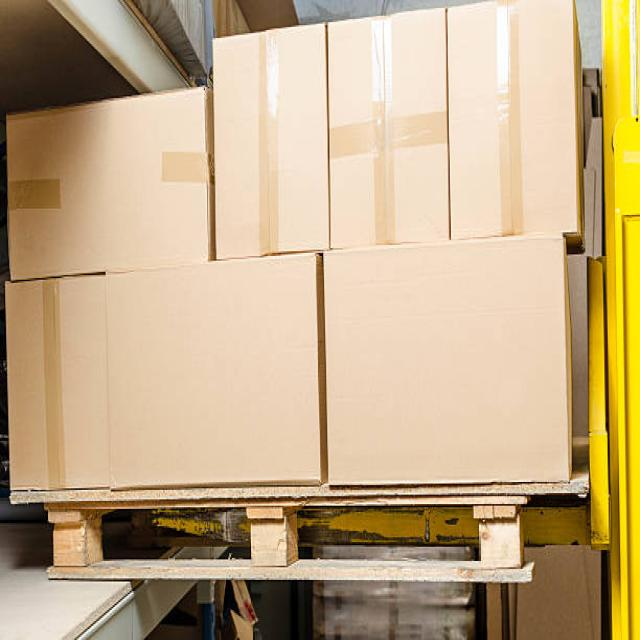Wooden-Pallets: (40, 487, 538, 592)
